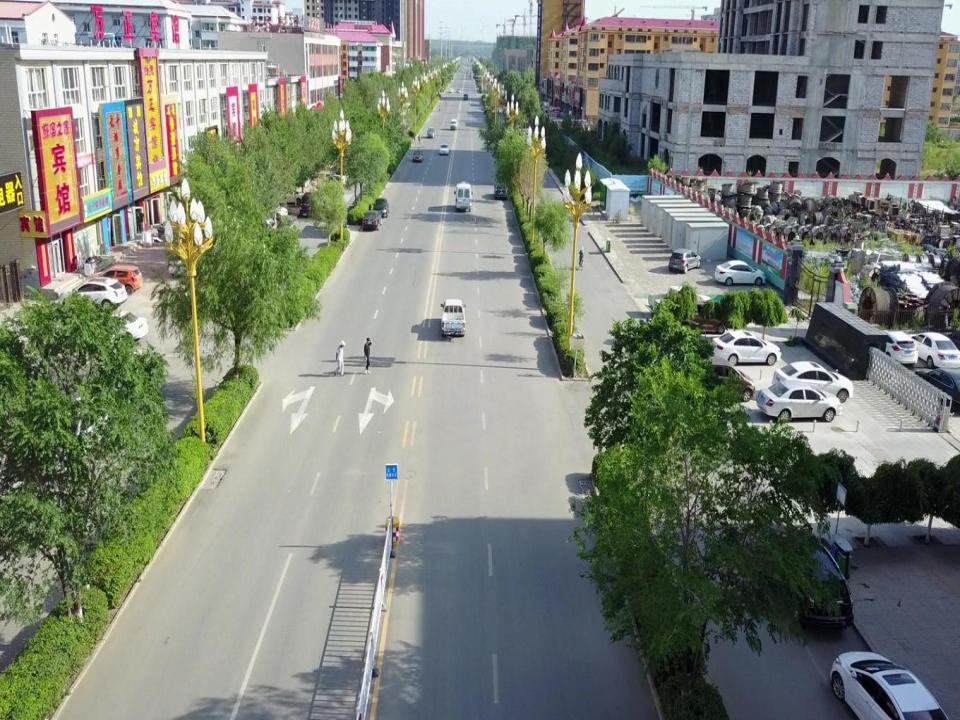car: (830, 650, 951, 720), (770, 534, 853, 630), (756, 378, 842, 422), (772, 360, 854, 404), (676, 355, 754, 400), (713, 330, 781, 366), (648, 284, 712, 319), (61, 278, 126, 312), (84, 312, 148, 346), (672, 298, 726, 336), (914, 366, 956, 413), (906, 331, 955, 370), (867, 329, 918, 366), (89, 264, 143, 294), (169, 239, 208, 278), (714, 259, 766, 286), (440, 299, 466, 337), (234, 209, 274, 232), (668, 248, 701, 273), (248, 202, 288, 222), (266, 186, 304, 206), (300, 192, 322, 217), (332, 164, 356, 185), (362, 210, 382, 230), (372, 197, 390, 216), (494, 182, 508, 200), (412, 148, 424, 162), (439, 143, 450, 154), (426, 126, 435, 138), (450, 118, 458, 129), (463, 93, 469, 101), (449, 88, 454, 92), (457, 89, 461, 93)
van: (454, 182, 472, 210)
